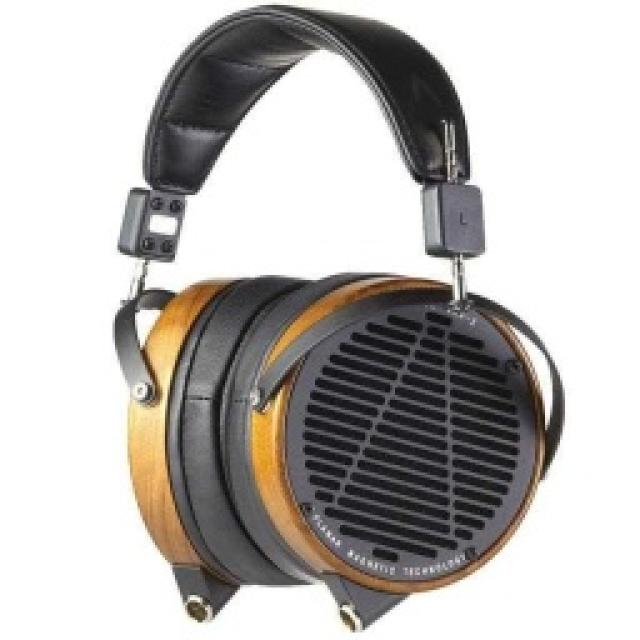headphones: (110, 0, 565, 630)
